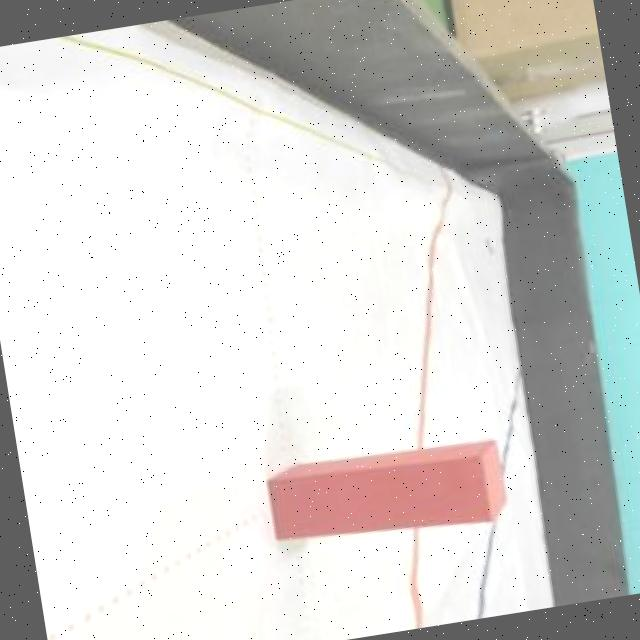redbox: (263, 433, 512, 557)
